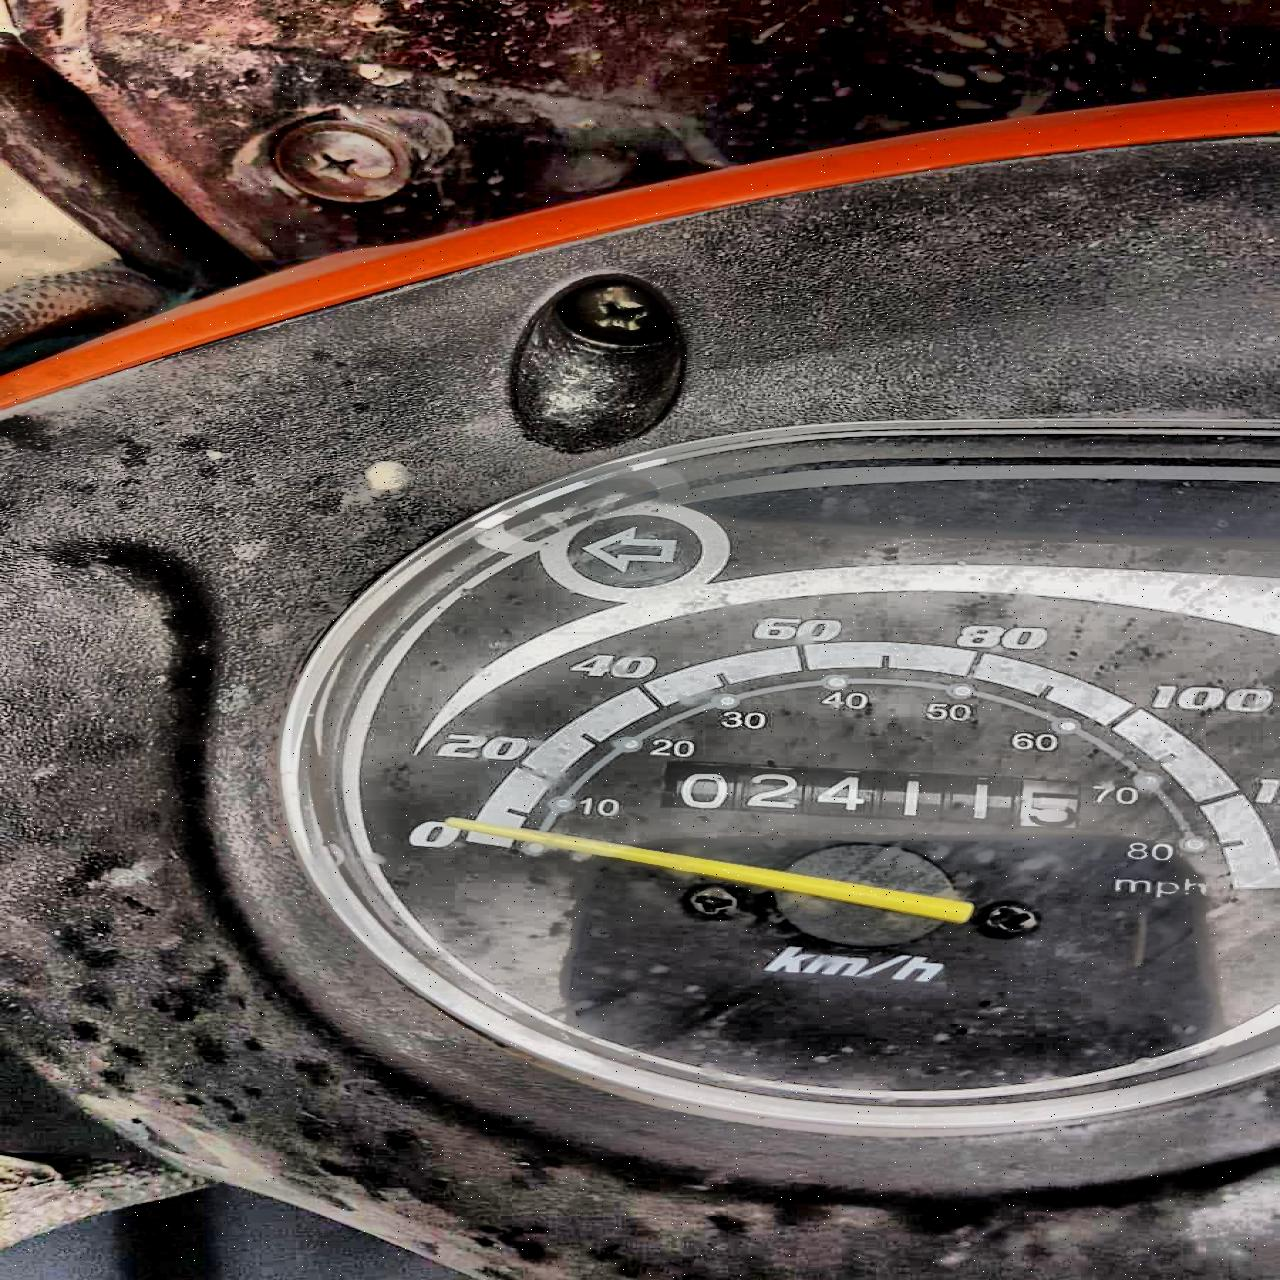0: (679, 770, 729, 810)
1: (897, 776, 926, 817), (967, 779, 995, 821)
2: (744, 772, 798, 810)
4: (815, 772, 867, 811)
5: (1023, 788, 1080, 828)
odometer: (648, 760, 1092, 836)
